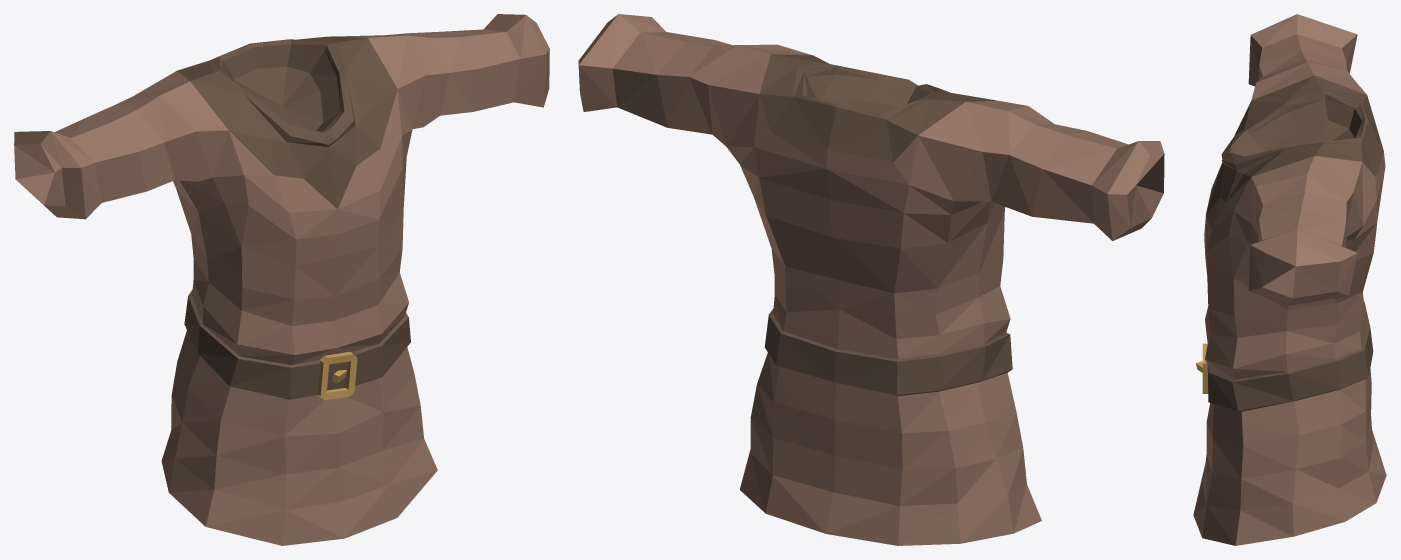
Rendered from armorTunicDisplay.fbx.
The picture shows the model from 3 angles, left to right: view 1: azimuth 30°, elevation 25°; view 2: azimuth 150°, elevation 25°; view 3: azimuth 270°, elevation 25°; orthographic projection. The views are drawn at different scales.
Parts seen in each view (by area): view 1: armorTunicDisplay; view 2: armorTunicDisplay; view 3: armorTunicDisplay.
Part boxes in pixels (x1,y1,x2,y2): armorTunicDisplay: (14,14,549,545); armorTunicDisplay: (578,14,1164,545); armorTunicDisplay: (1193,14,1386,545).
Bounding box in the file's own units: 1.84 × 1.5 × 0.6588.
